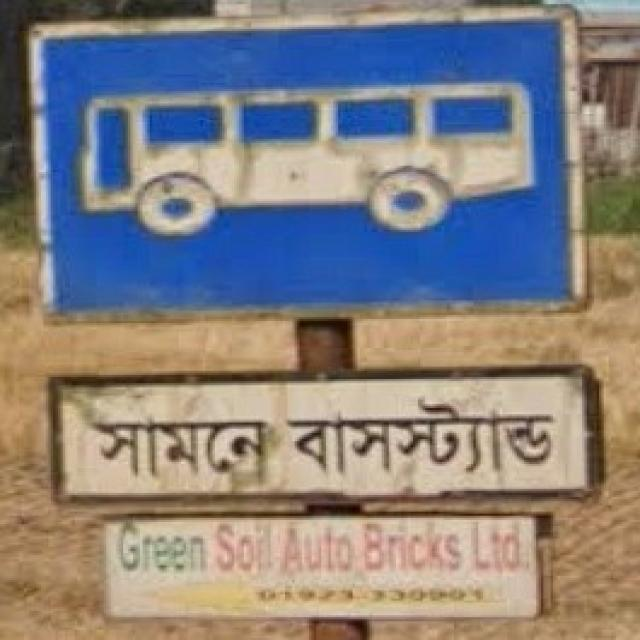Ahead-the-bus-station: (25, 19, 615, 506)
